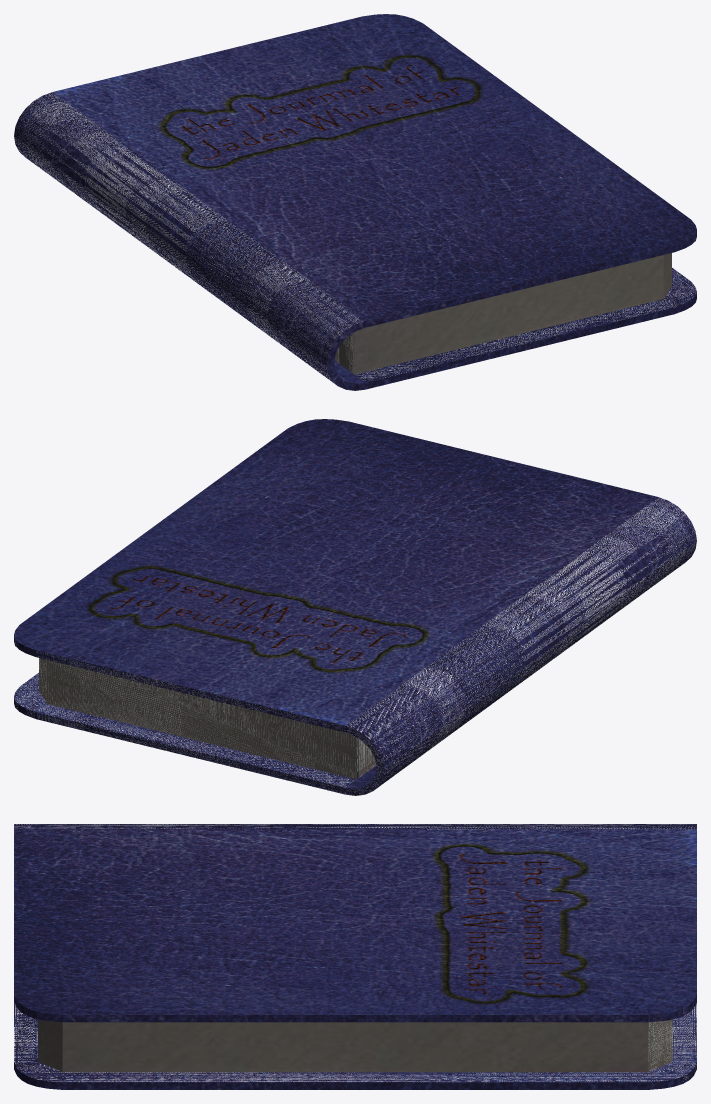
The picture shows the model from 3 angles, top to bottom: view 1: azimuth 30°, elevation 25°; view 2: azimuth 150°, elevation 25°; view 3: azimuth 270°, elevation 25°; orthographic projection. The views are drawn at different scales.
Visible parts, largest first — view 1: SketchUp (×3); view 2: SketchUp (×3); view 3: SketchUp (×3).
Boxes of the visible parts, x1,y1,x2,y2 form: SketchUp (×3): (14, 14, 696, 390); SketchUp (×3): (14, 419, 696, 795); SketchUp (×3): (14, 824, 696, 1089).
Bounding box in the file's own units: 7.87 × 11.02 × 1.34.
Materials: 4 (3 with a texture image).
